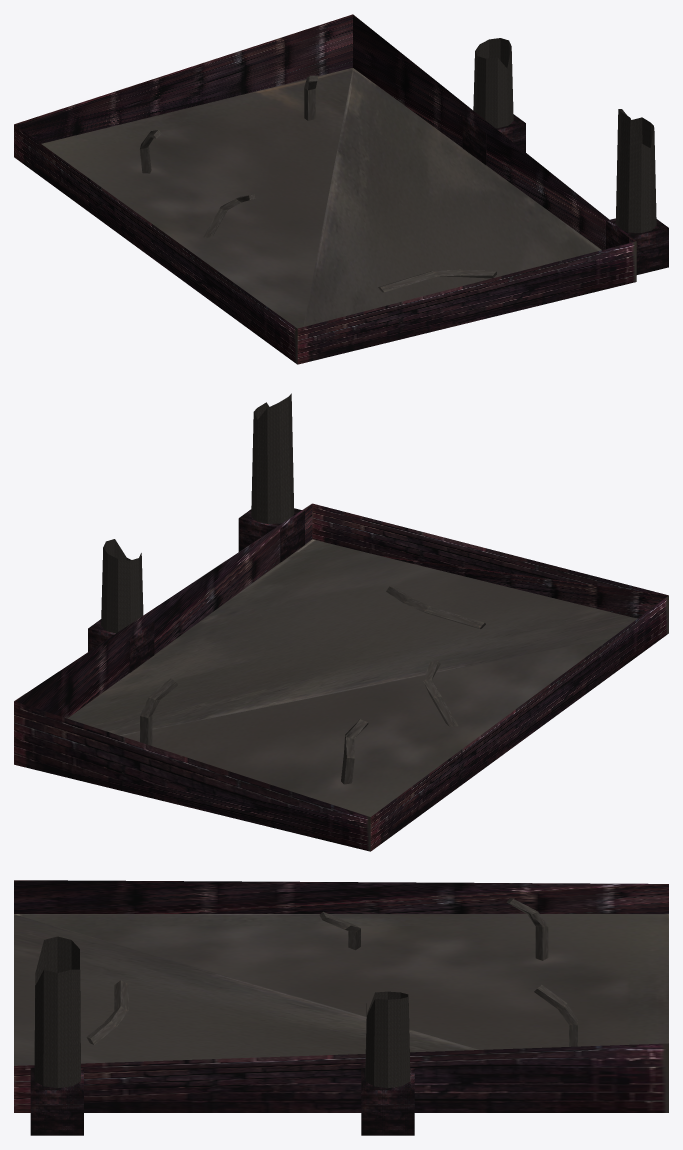
The model's file is factoryburned.gltf.
3 renders of one model, top to bottom at view 1: azimuth 30°, elevation 25°; view 2: azimuth 150°, elevation 25°; view 3: azimuth 270°, elevation 25°, orthographic. The views are drawn at different scales.
Parts seen in each view (by area): view 1: factoryburned_atomic0; view 2: factoryburned_atomic0; view 3: factoryburned_atomic0.
Part boxes in pixels (bbox=[...]): factoryburned_atomic0: bbox=[14, 14, 668, 364]; factoryburned_atomic0: bbox=[14, 393, 668, 851]; factoryburned_atomic0: bbox=[14, 880, 668, 1135].
Bounding box in the file's own units: 96.73 × 37.96 × 125.
4 materials, 4 textured.
